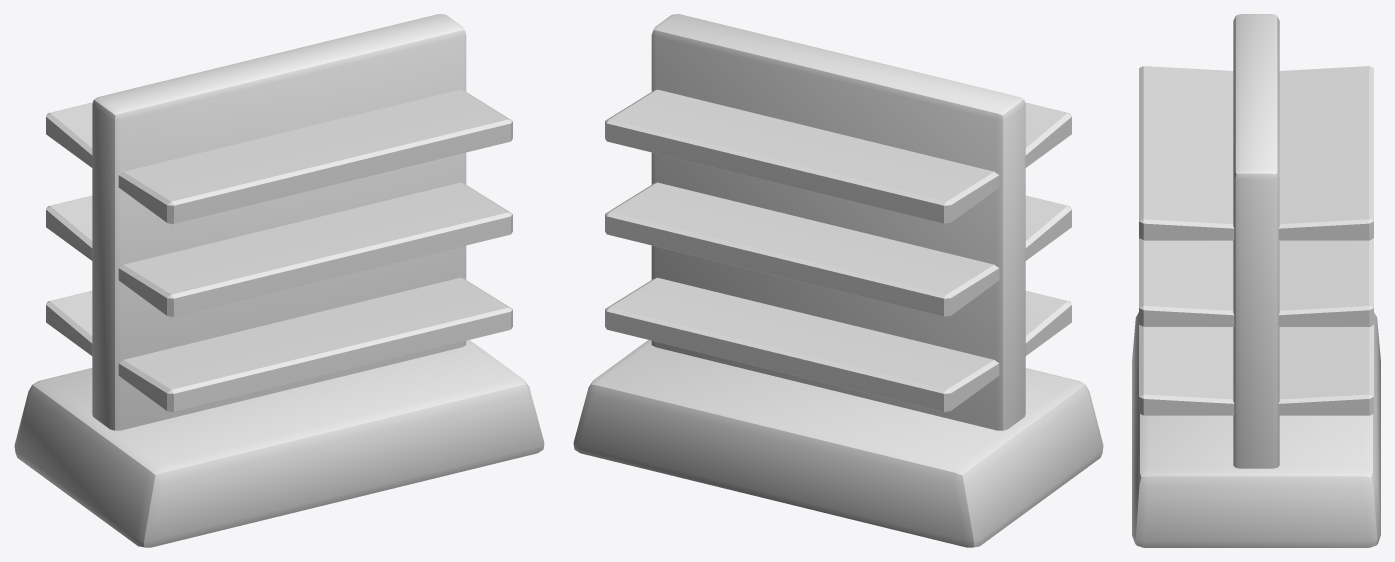
Rendered from Kitchen_Rack_02_C02.fbx.
The picture shows the model from 3 angles, left to right: view 1: azimuth 30°, elevation 25°; view 2: azimuth 150°, elevation 25°; view 3: azimuth 270°, elevation 25°; orthographic projection. The views are drawn at different scales.
Visible parts, largest first — view 1: Kitchen_Rack_02_C02; view 2: Kitchen_Rack_02_C02; view 3: Kitchen_Rack_02_C02.
Part boxes in pixels (x1,y1,x2,y2): Kitchen_Rack_02_C02: (14, 14, 544, 547); Kitchen_Rack_02_C02: (573, 14, 1103, 547); Kitchen_Rack_02_C02: (1132, 14, 1380, 547).
Size of the model in its own units: 200 by 185 by 114.
